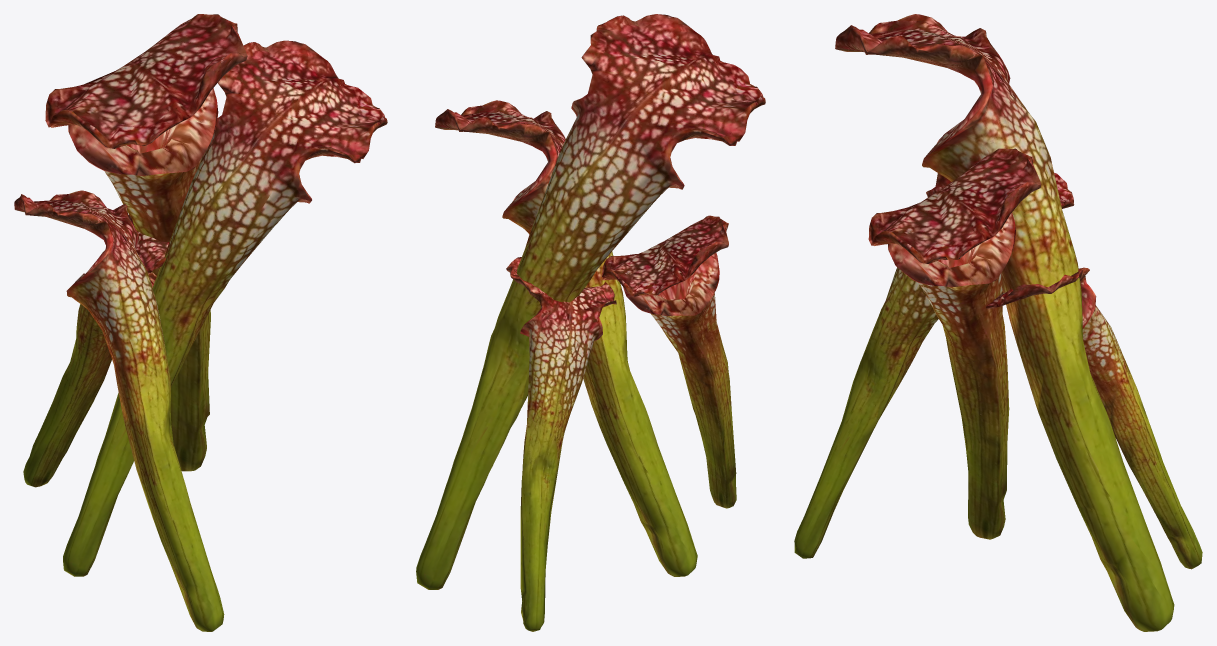
Rendered from trap-sarracenia.glb.
3 views of the same model, side by side, from view 1: azimuth 30°, elevation 25°; view 2: azimuth 150°, elevation 25°; view 3: azimuth 270°, elevation 25° (orthographic). The views are drawn at different scales.
Visible parts, largest first — view 1: plant; view 2: plant; view 3: plant.
Boxes of the visible parts, x1,y1,x2,y2 form: plant: [14, 14, 387, 631]; plant: [416, 14, 765, 631]; plant: [794, 14, 1202, 631].
Size of the model in its own units: 0.6297 by 1 by 0.6637.
1 material, 1 textured.
